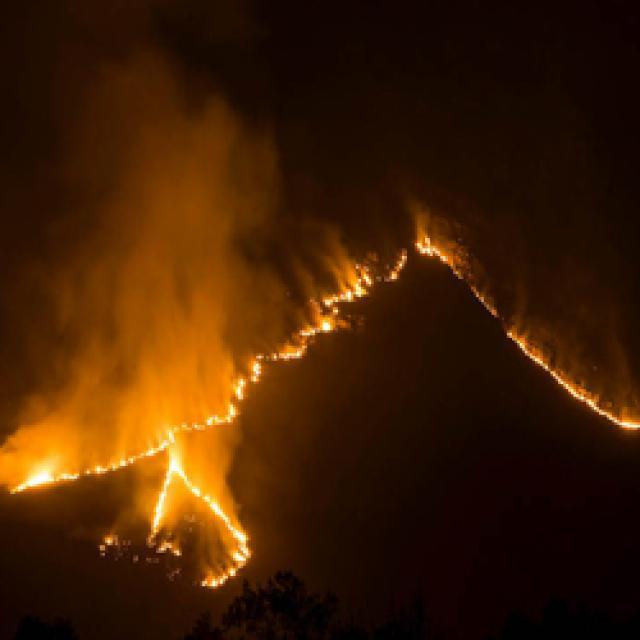Fire: (119, 399, 284, 585), (0, 446, 165, 520), (0, 417, 159, 476), (272, 262, 388, 342), (368, 200, 468, 282), (490, 322, 576, 396), (205, 347, 319, 393), (560, 365, 640, 429)
Smoke: (0, 11, 285, 327)
